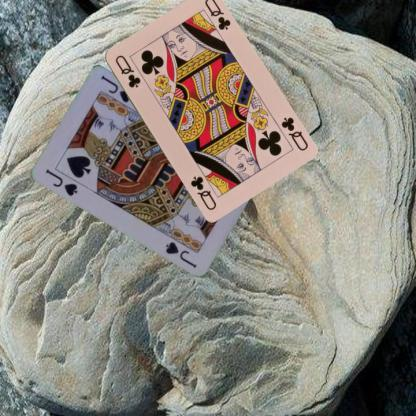Js: (43, 166, 79, 198)
Qc: (278, 114, 309, 153), (112, 52, 142, 89)
